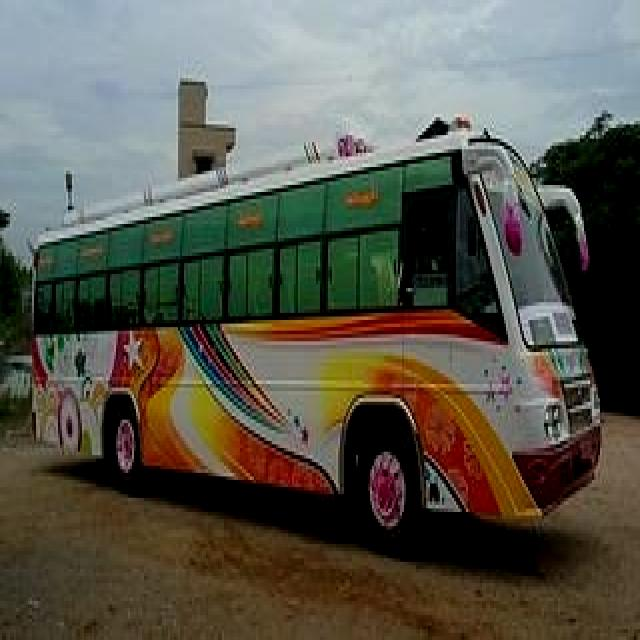Bus: (28, 126, 604, 551)
